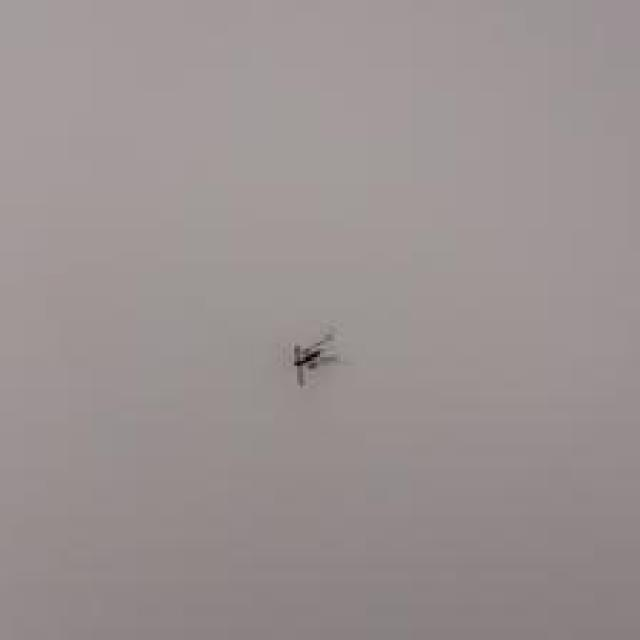Aedes albopictus: (290, 330, 339, 387)
